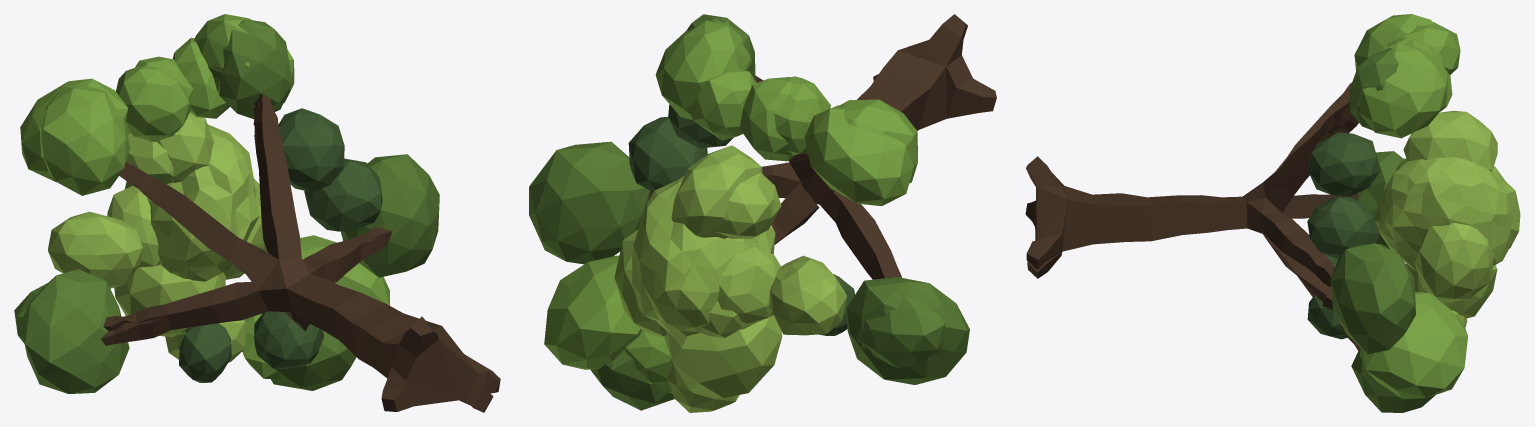
The model's file is TreeOakGreenD3.fbx.
3 views of the same model, side by side, from view 1: azimuth 30°, elevation 25°; view 2: azimuth 150°, elevation 25°; view 3: azimuth 270°, elevation 25° (orthographic). The views are drawn at different scales.
Visible parts, largest first — view 1: M_Tree_Bark, M_Tree_Leaf_Mid, M_Tree_Leaf_Pale, M_Tree_Leaf_Light, M_Tree_Leaf_Dark; view 2: M_Tree_Leaf_Pale, M_Tree_Leaf_Light, M_Tree_Leaf_Mid, M_Tree_Bark, M_Tree_Leaf_Dark; view 3: M_Tree_Bark, M_Tree_Leaf_Pale, M_Tree_Leaf_Light, M_Tree_Leaf_Mid, M_Tree_Leaf_Dark.
Part boxes in pixels (left/top/right/bottom): M_Tree_Bark: left=101, top=94, right=500, bottom=412; M_Tree_Leaf_Mid: left=14, top=19, right=439, bottom=393; M_Tree_Leaf_Pale: left=48, top=112, right=267, bottom=362; M_Tree_Leaf_Light: left=20, top=14, right=389, bottom=379; M_Tree_Leaf_Dark: left=179, top=108, right=382, bottom=382; M_Tree_Leaf_Pale: left=614, top=145, right=847, bottom=412; M_Tree_Leaf_Light: left=544, top=20, right=917, bottom=393; M_Tree_Leaf_Mid: left=529, top=14, right=969, bottom=410; M_Tree_Bark: left=648, top=14, right=996, bottom=279; M_Tree_Leaf_Dark: left=628, top=104, right=854, bottom=335; M_Tree_Bark: left=1025, top=82, right=1360, bottom=350; M_Tree_Leaf_Pale: left=1374, top=111, right=1520, bottom=327; M_Tree_Leaf_Light: left=1354, top=14, right=1467, bottom=399; M_Tree_Leaf_Mid: left=1330, top=48, right=1435, bottom=412; M_Tree_Leaf_Dark: left=1307, top=132, right=1379, bottom=339.
Size of the model in its own units: 32.22 by 28.38 by 38.05.
